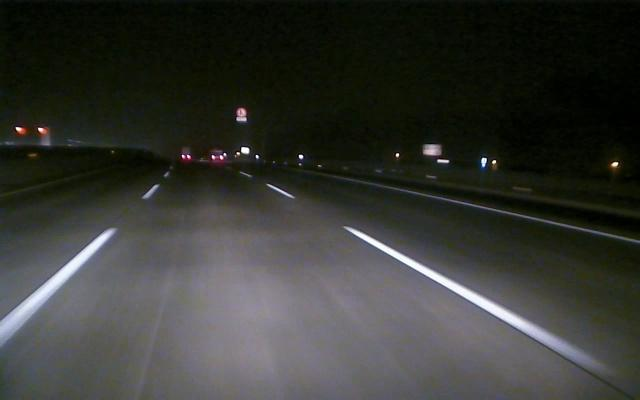lane: (268, 186, 626, 384), (3, 183, 159, 344), (367, 181, 640, 245)
